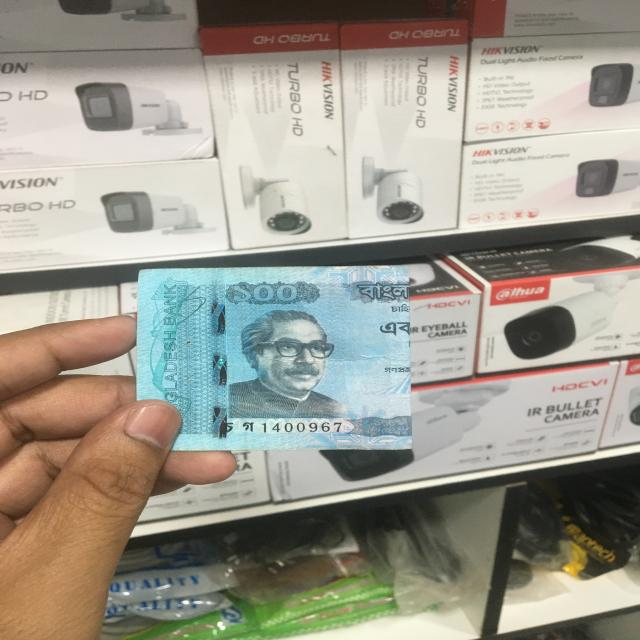Taka: (139, 266, 405, 446)
